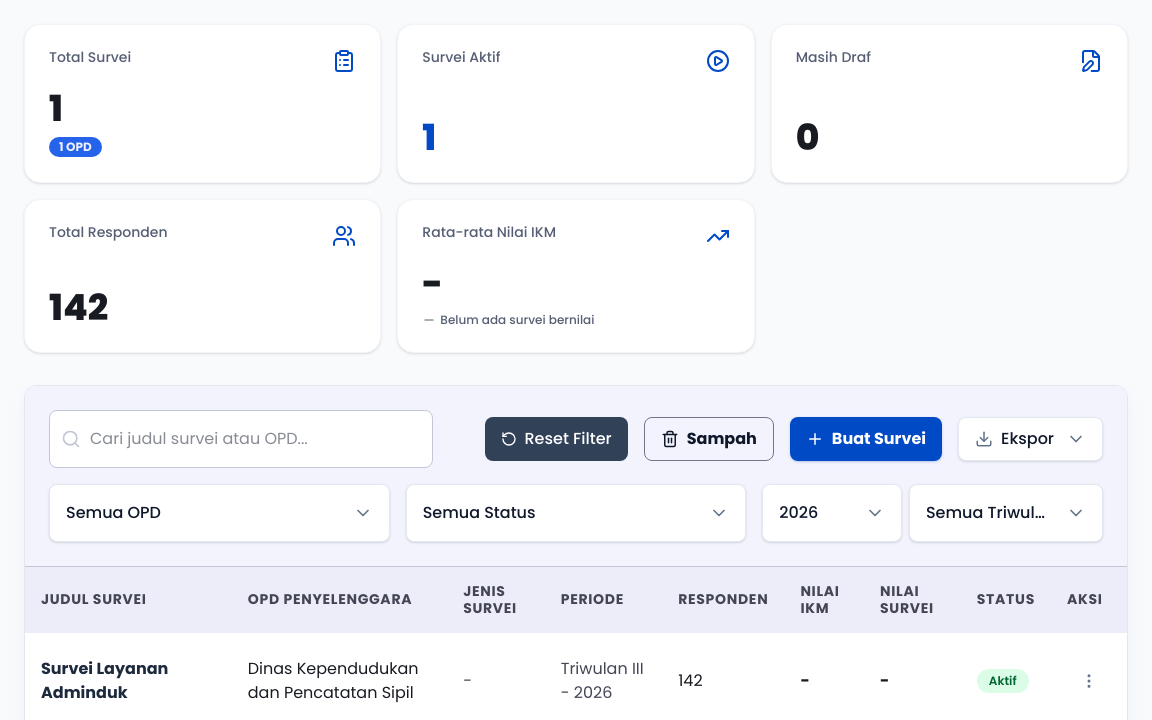
AdminKabSurveysPage — dialog buang ke Sampah › dialognya menyebut bahwa survei aktif ditutup lebih dulu, dan masih dapat dipulihkan
Check: the text "Survei Layanan Adminduk" is shown, box [41,657,168,704]
Click the button named "aksi untuk" at (1089, 681), box [1067,659,1111,703]
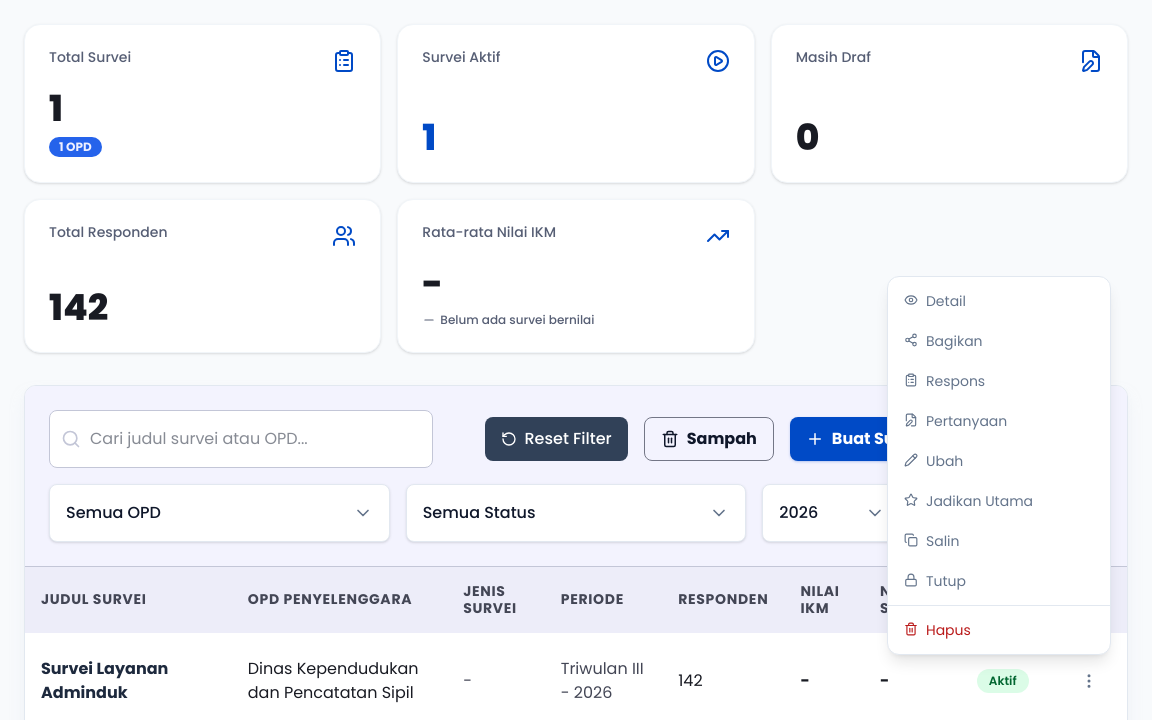
Click the menu item "Hapus" at (999, 630), box [888,610,1110,650]
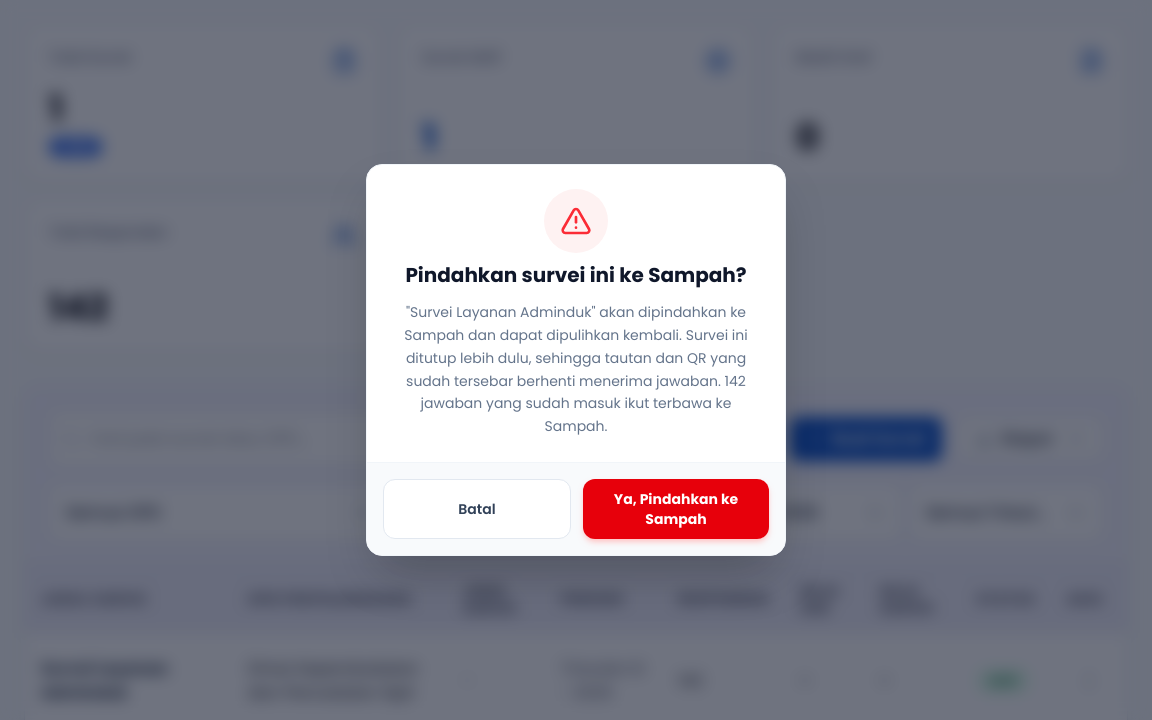
Check: the text "dipulihkan" is shown, box [404,302,748,436]
